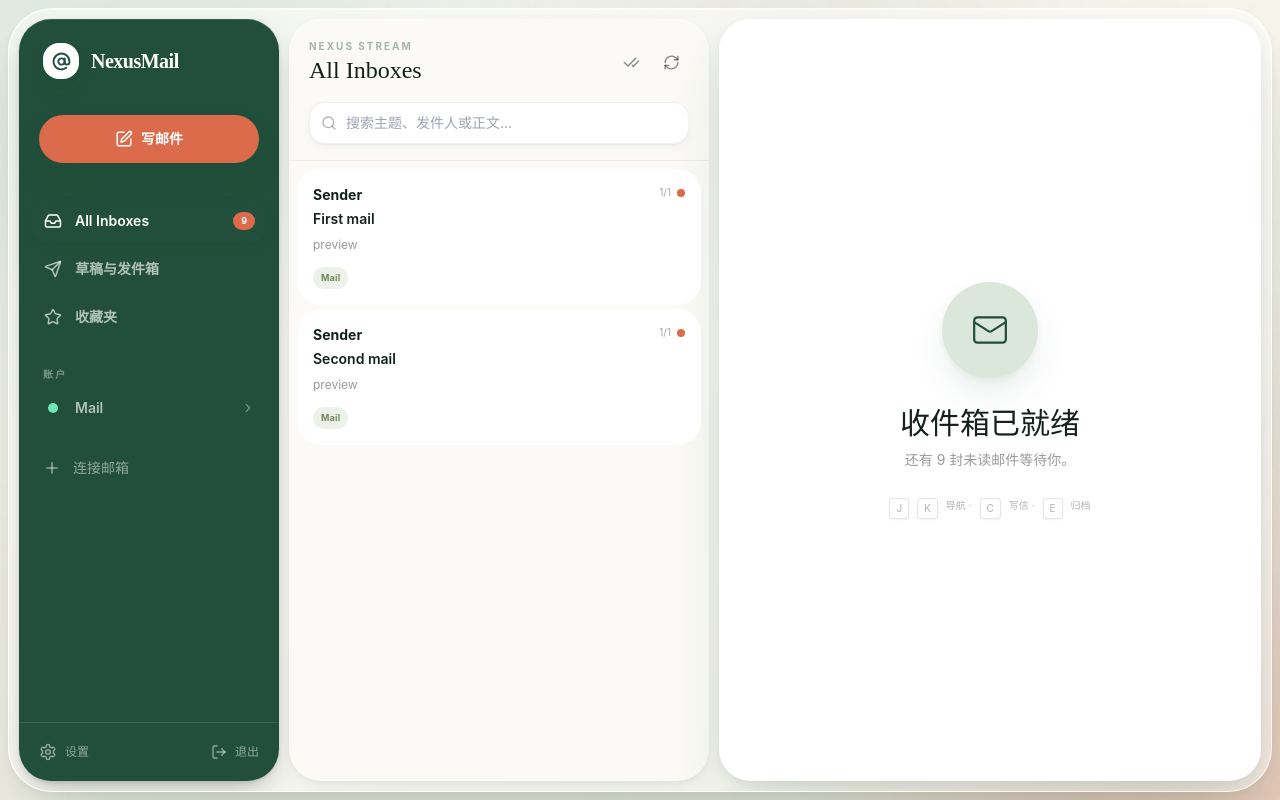
Scenario: mark the current view read › puts the message back to unread when the flag write fails
This screenshot has width=1280, height=800.
Expected: the text "9" is shown, left=233, top=212, right=255, bottom=230
Click the button "Sender 1/1 First mail preview Mail" at (338, 194), box left=297, top=169, right=701, bottom=304
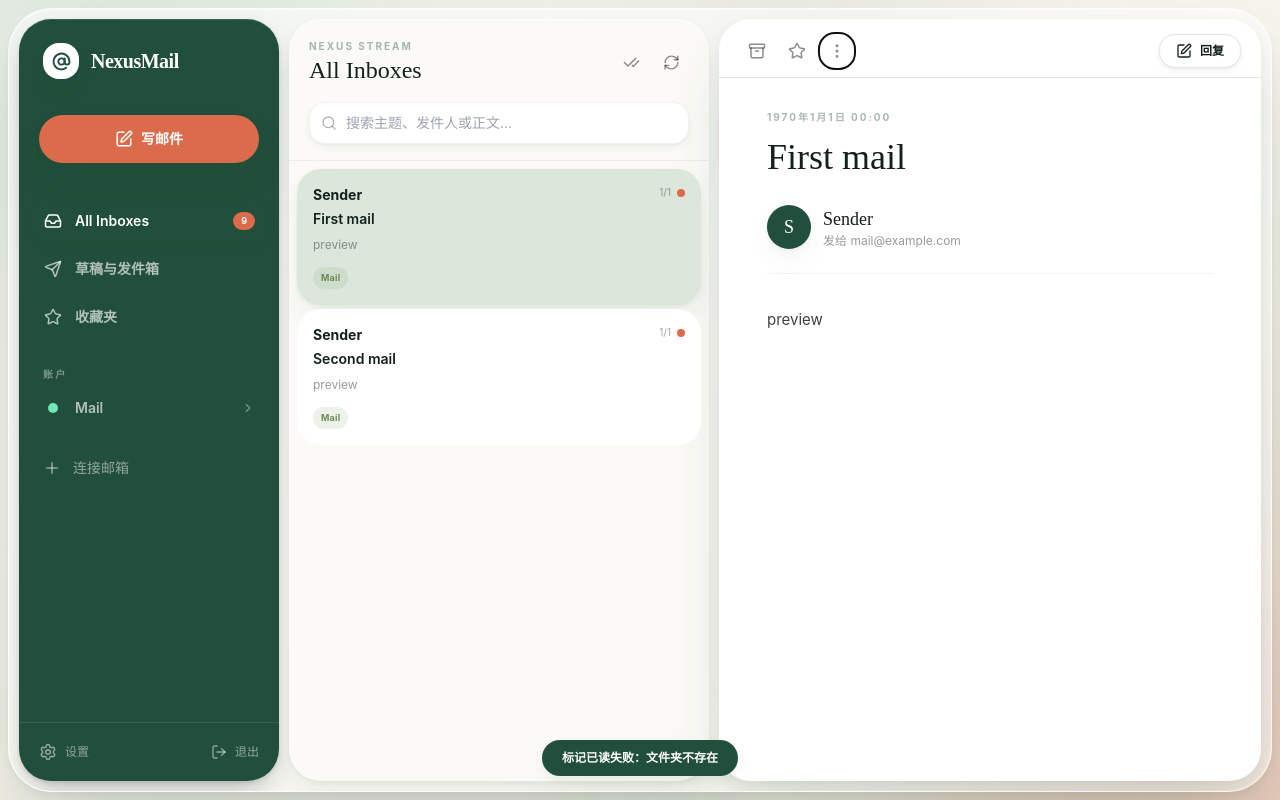
Expected: the text "9" is shown, left=233, top=212, right=255, bottom=230
Expected: the message reads "标记已读失败：文件夹不存在", left=562, top=750, right=718, bottom=765
